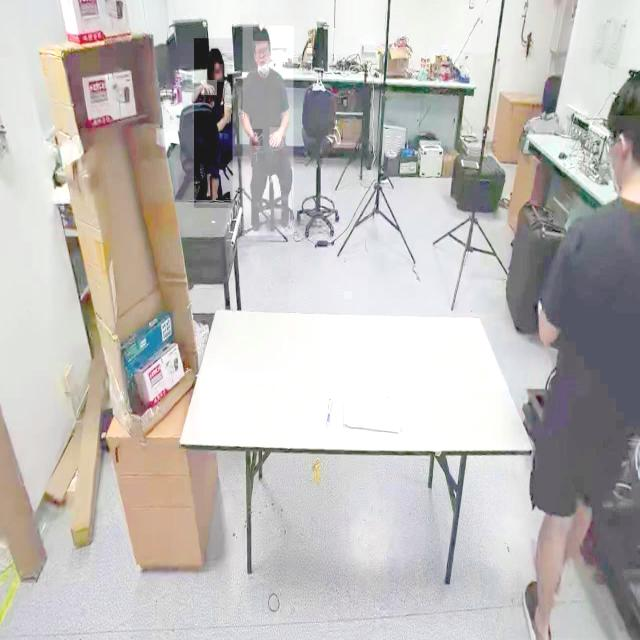face_nomask: (214, 64, 224, 83)
hand_noglove: (269, 127, 284, 148), (201, 80, 217, 96), (252, 129, 262, 147)
head_nohelmet: (608, 66, 640, 116), (252, 26, 270, 42), (208, 46, 224, 58)
person: (510, 48, 640, 639), (242, 26, 294, 236), (194, 38, 232, 209)
shoes: (521, 578, 555, 640), (276, 196, 294, 233), (248, 193, 266, 230)
